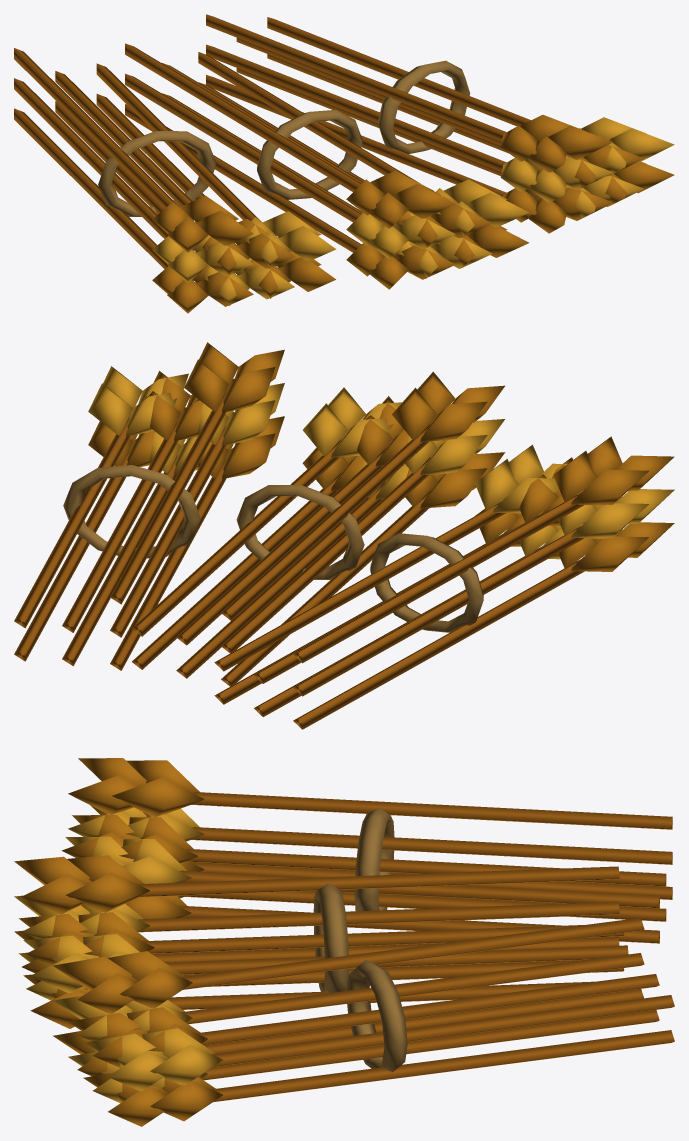
Rendered from pile-wheat-3.obj.
3 views of the same model, one above another, from view 1: azimuth 30°, elevation 25°; view 2: azimuth 150°, elevation 25°; view 3: azimuth 270°, elevation 25° (orthographic). The views are drawn at different scales.
Visible parts, largest first — view 1: pile-wheat-3; view 2: pile-wheat-3; view 3: pile-wheat-3.
Part boxes in pixels (left/top/right/bottom): pile-wheat-3: left=14, top=14, right=674, bottom=313; pile-wheat-3: left=14, top=342, right=674, bottom=729; pile-wheat-3: left=14, top=758, right=674, bottom=1126.
Bounding box in the file's own units: 0.5694 × 0.1078 × 0.5615.
Materials: 1 (1 with a texture image).
